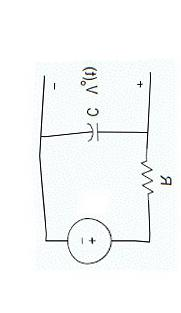Battery: (52, 211, 123, 271)
